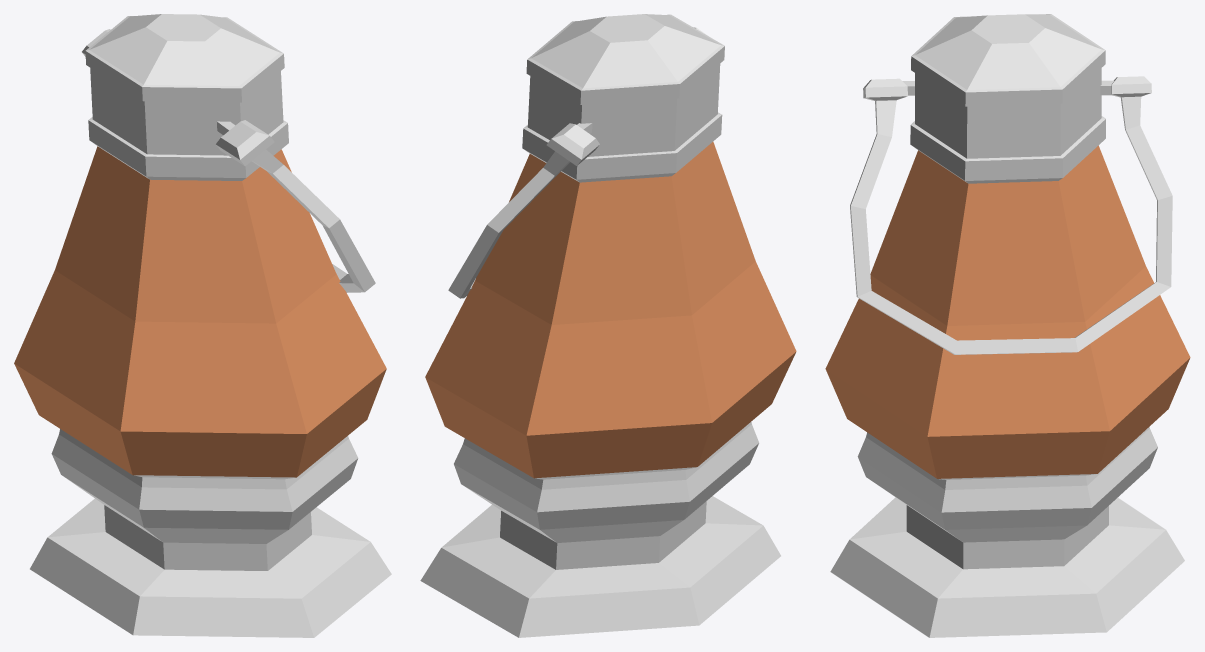
File: Lamp Pirate.fbx
3 views of the same model, side by side, from view 1: azimuth 30°, elevation 25°; view 2: azimuth 150°, elevation 25°; view 3: azimuth 270°, elevation 25° (orthographic). The views are drawn at different scales.
Visible parts, largest first — view 1: Lamp Pirate, Lamp Hand; view 2: Lamp Pirate, Lamp Hand; view 3: Lamp Pirate, Lamp Hand.
Boxes of the visible parts, <box> form: Lamp Pirate: <box>14,14,391,637</box>; Lamp Hand: <box>82,29,375,292</box>; Lamp Pirate: <box>420,14,796,637</box>; Lamp Hand: <box>448,27,709,298</box>; Lamp Pirate: <box>825,14,1190,637</box>; Lamp Hand: <box>850,76,1172,354</box>.
Bounding box in the file's own units: 0.1862 × 0.3373 × 0.2096.
